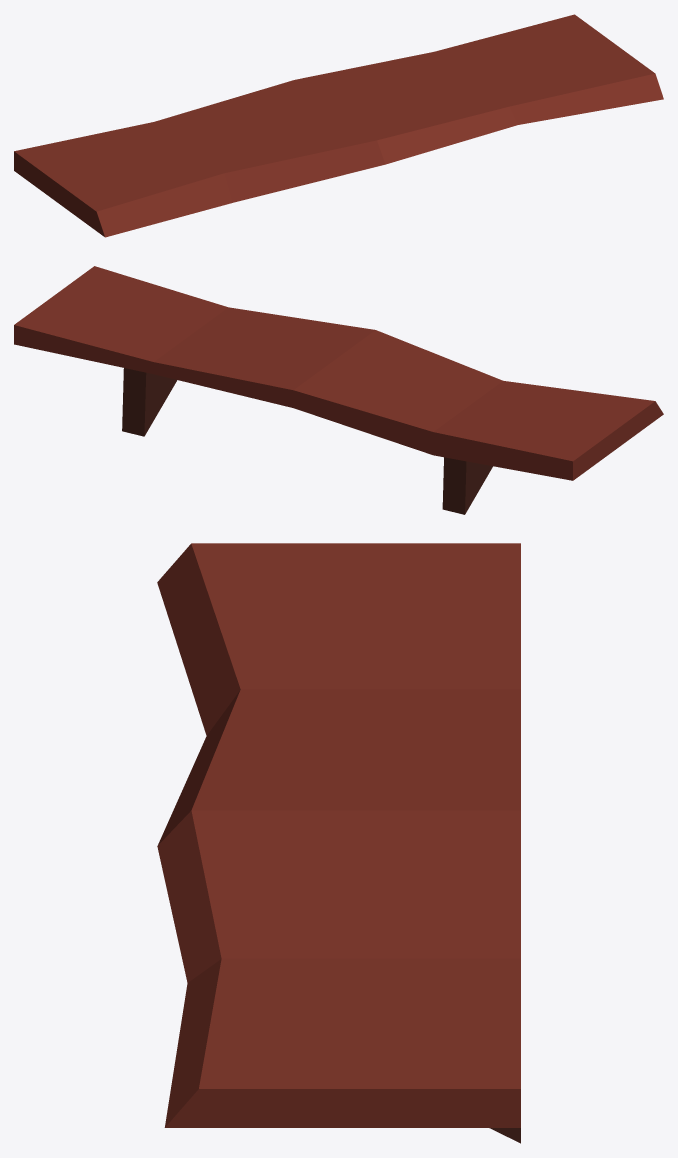
File: Shelf_1_Red.fbx
3 views of the same model, one above another, from view 1: azimuth 30°, elevation 25°; view 2: azimuth 150°, elevation 25°; view 3: azimuth 270°, elevation 25° (orthographic). The views are drawn at different scales.
Visible parts, largest first — view 1: Shelf_1_Red_Part_1; view 2: Shelf_1_Red_Part_1, Shelf_1_Red_Part_2; view 3: Shelf_1_Red_Part_1.
Boxes of the visible parts, bbox=[...] form: Shelf_1_Red_Part_1: bbox=[14, 14, 663, 237]; Shelf_1_Red_Part_1: bbox=[14, 266, 663, 480]; Shelf_1_Red_Part_2: bbox=[122, 368, 492, 514]; Shelf_1_Red_Part_1: bbox=[157, 543, 520, 1127].
Bounding box in the file's own units: 150 × 21.24 × 42.25.
